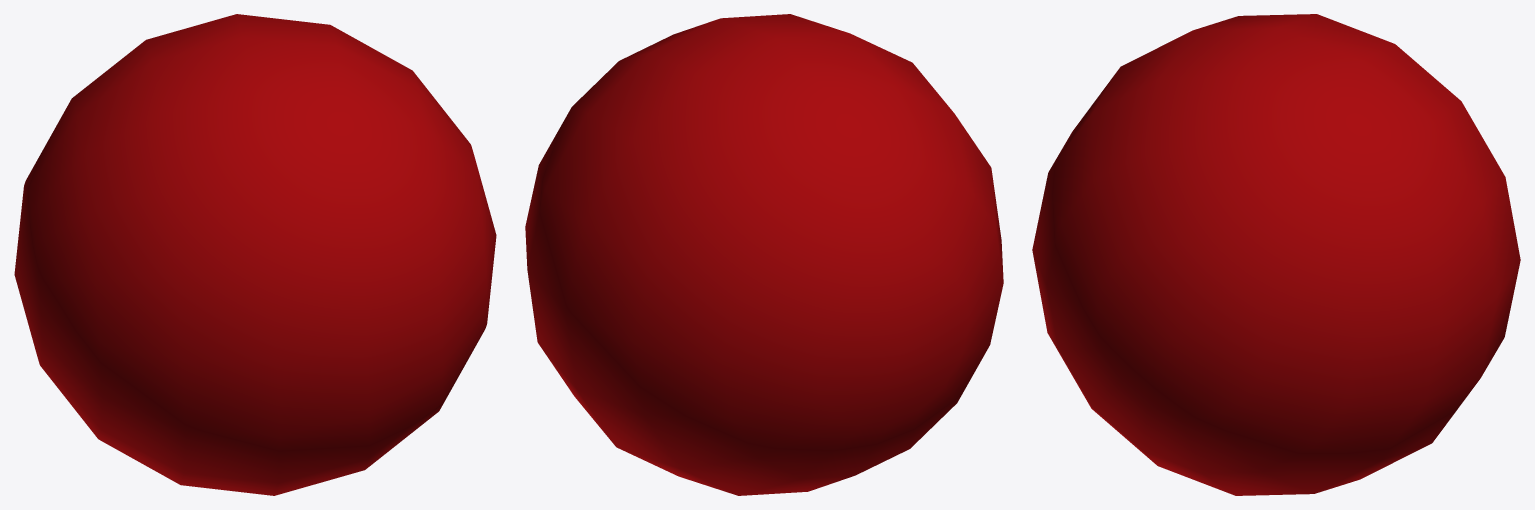
Rendered from mouse_eye.obj.
3 views of the same model, side by side, from view 1: azimuth 30°, elevation 25°; view 2: azimuth 150°, elevation 25°; view 3: azimuth 270°, elevation 25° (orthographic).
Visible parts, largest first — view 1: eye; view 2: eye; view 3: eye.
Part boxes in pixels (x1,y1,x2,y2): eye: [14, 14, 496, 495]; eye: [525, 14, 1003, 495]; eye: [1032, 14, 1520, 495].
Bounding box in the file's own units: 0.00434 × 0.00435 × 0.00435.
